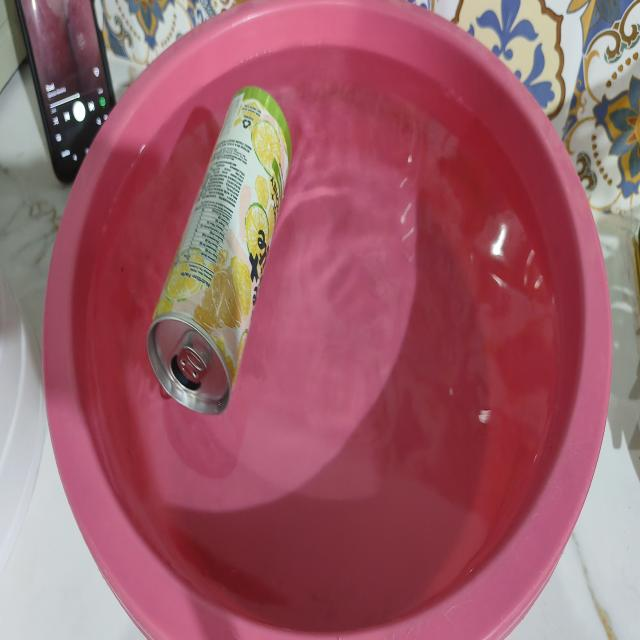Aluminum Can: (147, 86, 292, 414)
